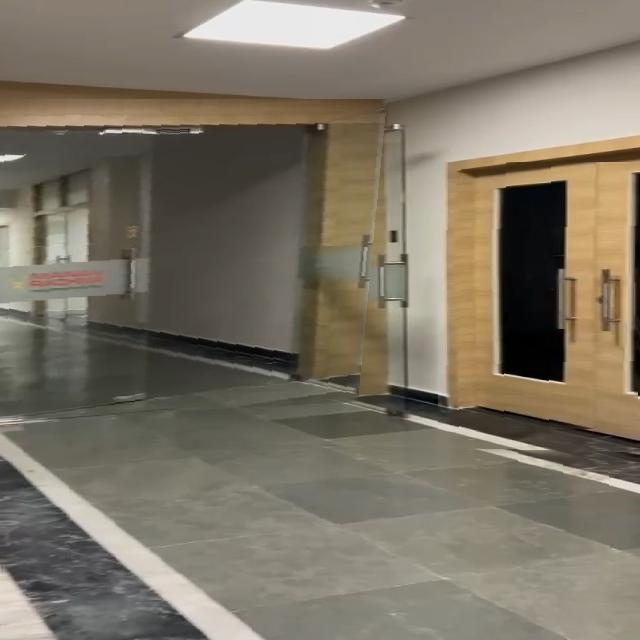door: (0, 99, 389, 422), (438, 162, 640, 432)
floor: (0, 438, 640, 640)
